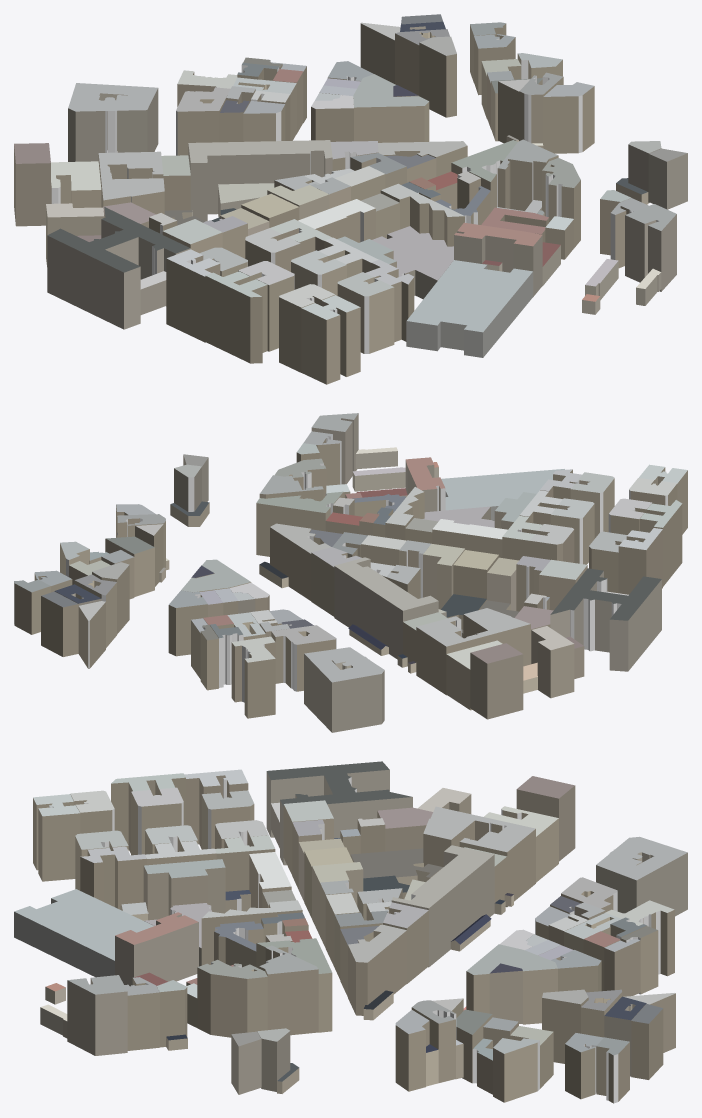
3 renders of one model, top to bottom at view 1: azimuth 30°, elevation 25°; view 2: azimuth 150°, elevation 25°; view 3: azimuth 270°, elevation 25°, orthographic. The views are drawn at different scales.
Visible parts, largest first — view 1: tuile; view 2: tuile; view 3: tuile.
Part boxes in pixels (<box>): tuile: <box>14,14,687,384</box>; tuile: <box>14,413,687,732</box>; tuile: <box>14,761,687,1103</box>.
Size of the model in its own units: 281 by 41.95 by 283.
